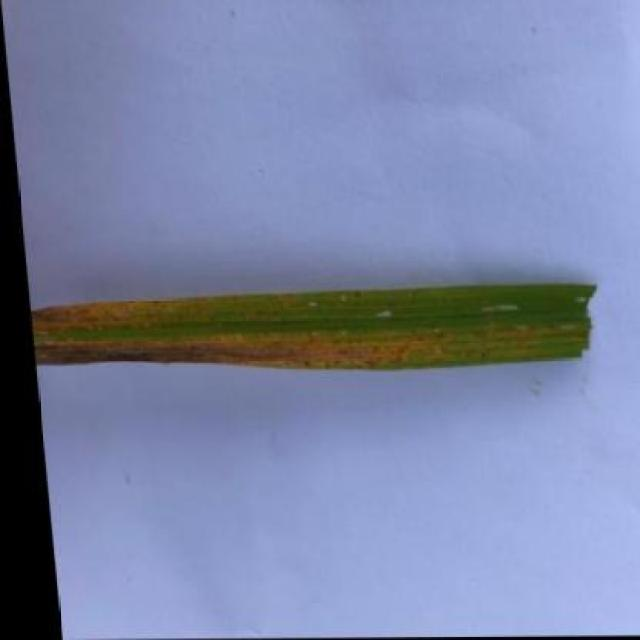Rice False Smut: (24, 286, 589, 371)
